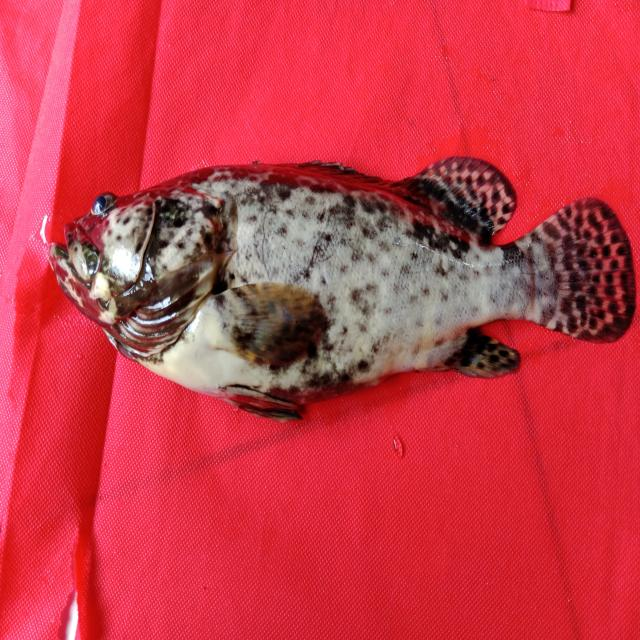ikan: (34, 132, 630, 440)
